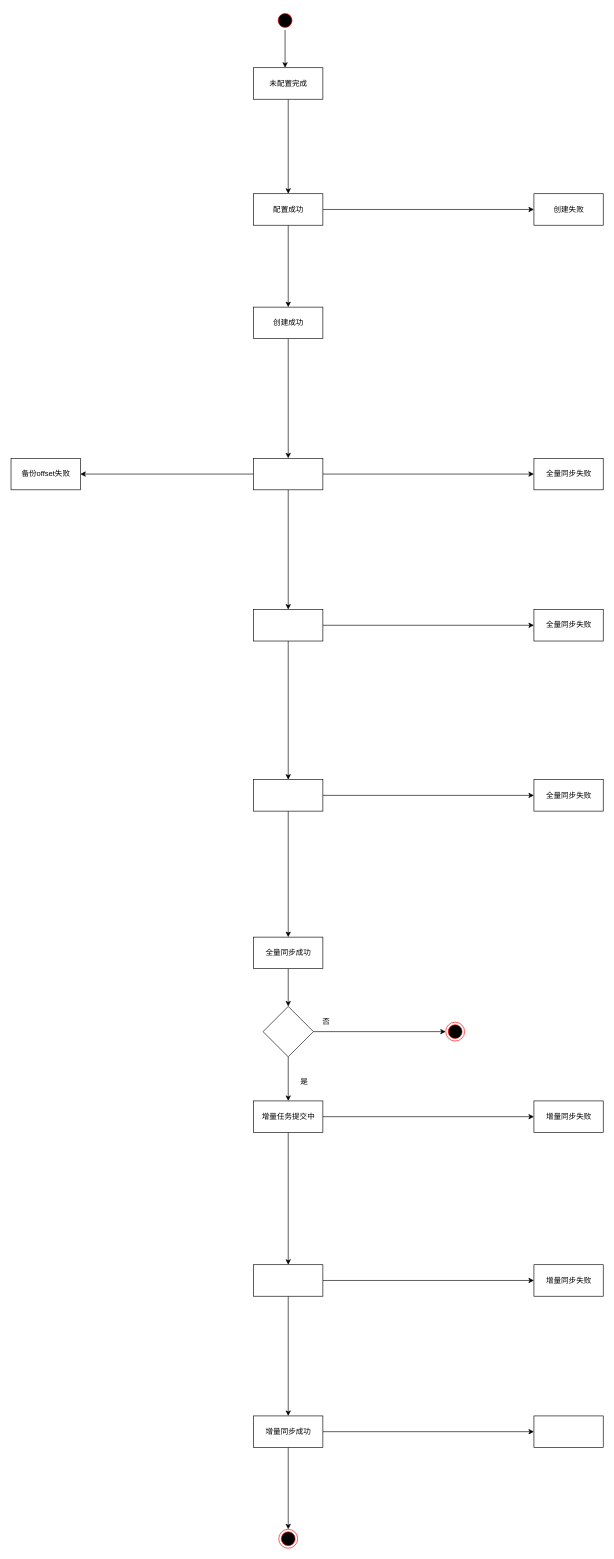
This 614x1559 diagram has some shape labels left out. The box of each missing label's shape, as (x1, y1, x2, y2) in pixels:
全量任务启动: (253, 458, 323, 490)
增量同步中: (253, 1264, 323, 1296)
增量同步暂停: (533, 1415, 603, 1447)
是否实时?: (262, 1006, 313, 1057)
离线全量加载中: (253, 779, 323, 811)
离线全量索引进行中: (253, 609, 323, 641)
